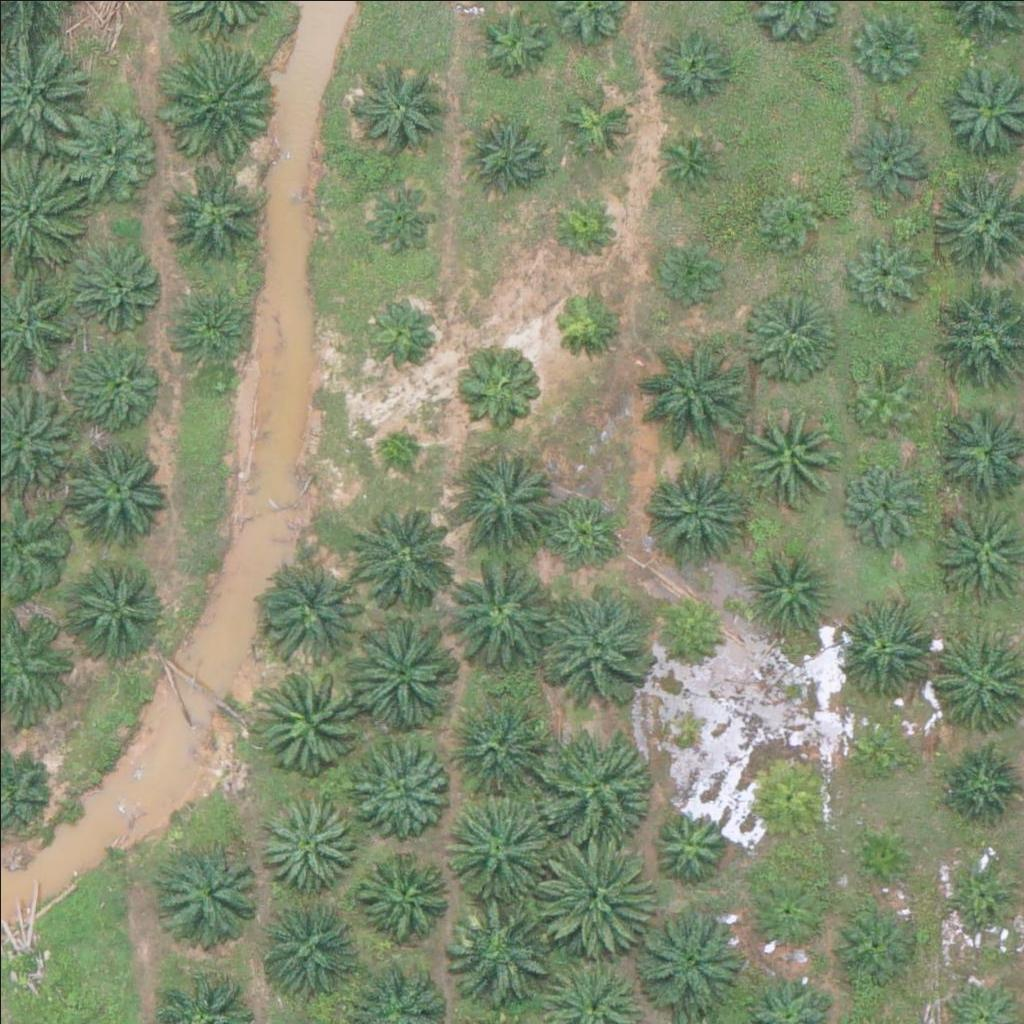Kelapa_Sawit: (158, 48, 271, 162), (349, 615, 462, 728), (352, 498, 465, 611), (534, 734, 647, 847), (537, 586, 650, 699), (444, 898, 557, 1011), (446, 555, 558, 669), (442, 796, 554, 910), (540, 844, 652, 958), (633, 337, 745, 450), (254, 663, 366, 776), (257, 555, 369, 668), (441, 446, 553, 559), (636, 906, 748, 1019), (350, 55, 450, 156), (839, 596, 939, 697), (740, 403, 840, 504), (643, 464, 743, 565), (65, 344, 165, 445), (65, 436, 165, 537), (59, 562, 159, 663), (163, 164, 263, 265), (162, 838, 262, 939), (255, 789, 355, 890), (357, 844, 457, 945), (350, 736, 450, 837), (739, 285, 839, 385), (58, 102, 158, 202), (62, 243, 162, 343), (257, 888, 357, 988), (443, 699, 543, 799), (744, 754, 832, 843), (353, 173, 441, 262), (647, 18, 735, 106), (538, 485, 626, 573), (744, 868, 832, 956), (844, 113, 932, 201), (837, 231, 925, 319), (453, 348, 541, 436), (459, 109, 547, 197), (840, 464, 927, 552), (746, 544, 833, 632), (356, 292, 443, 380), (169, 289, 256, 377), (649, 800, 736, 888), (834, 898, 921, 986), (654, 595, 729, 671), (849, 4, 924, 80), (651, 233, 726, 309), (653, 121, 728, 197), (846, 818, 921, 894), (842, 710, 917, 786), (940, 848, 1015, 923), (546, 284, 621, 359), (845, 363, 920, 438), (561, 84, 636, 159), (747, 179, 822, 254), (546, 188, 621, 263), (374, 415, 424, 465)
